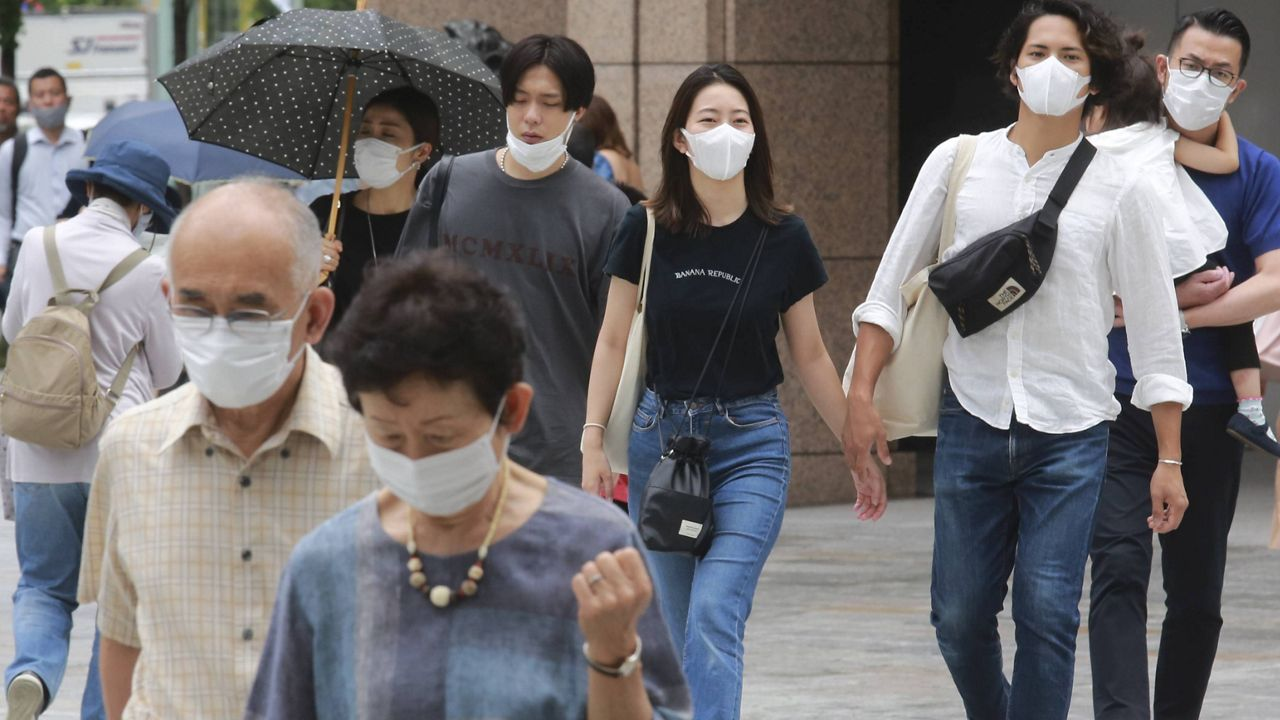with_incorrect_mask: (505, 87, 566, 168)
with_mask: (172, 259, 294, 399), (361, 393, 490, 506), (1177, 43, 1234, 135), (692, 98, 754, 175), (1026, 33, 1081, 116), (355, 121, 408, 181)
